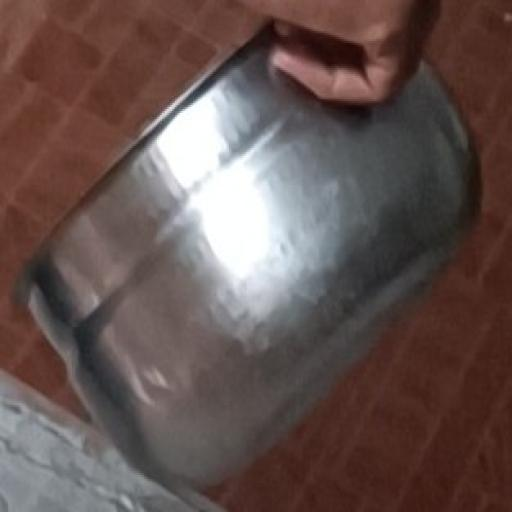vessel: (23, 27, 478, 483)
